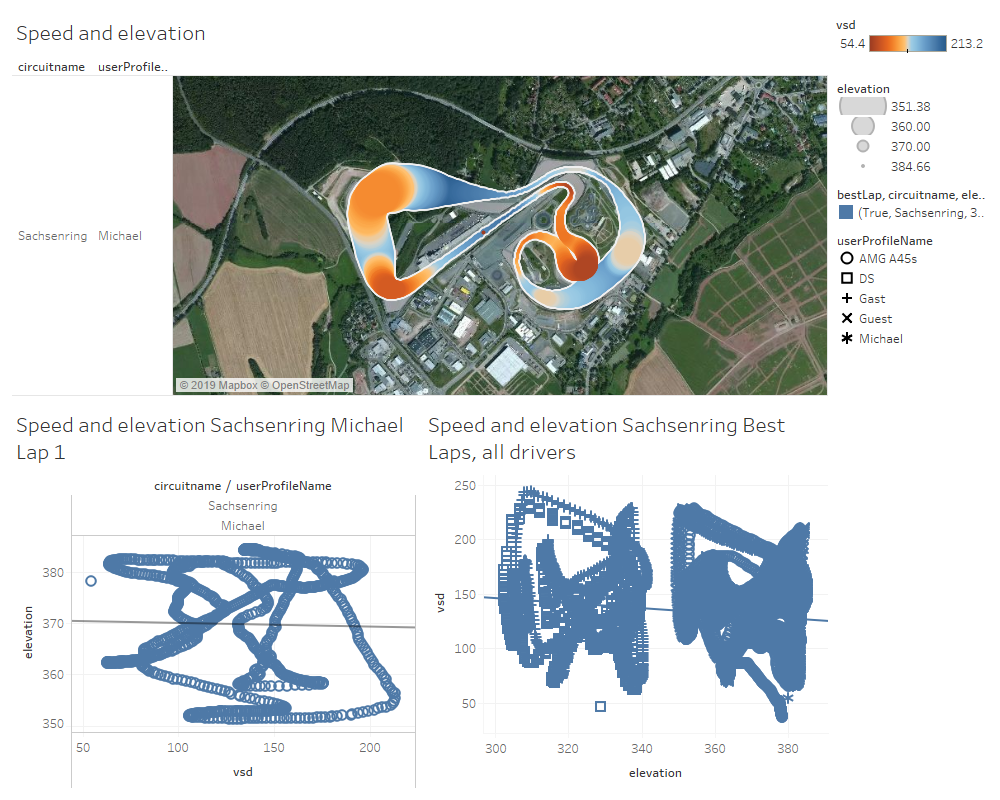

Layout of this report page (visuals, bound fields, positions):
{"tool":"tableau","page":{"name":"Dashboard 2","canvas":[1000,800],"ordinal":1},"visuals":[{"type":"worksheet","title":"Sheet 2","mark":"Circle","rows":["circuitname","userProfileName","lat"],"cols":["lon"],"box":[8,8,824,392]},{"type":"legend","title":"Sheet 2","param":"[federated.1ovtjj11v7gshn1c392m20qye2kd].[none:vsd:qk]","box":[832,8,160,65]},{"type":"legend","title":"Sheet 2","param":"[federated.1ovtjj11v7gshn1c392m20qye2kd].[none:elevation:qk]","box":[832,73,160,106]},{"type":"legend","title":"Sheet 4","param":"[federated.1ovtjj11v7gshn1c392m20qye2kd].[bestLap, circuitname, elevation and 3 ","box":[832,179,160,46]},{"type":"legend","title":"Sheet 4","param":"[federated.1ovtjj11v7gshn1c392m20qye2kd].[none:userProfileName:nk]","box":[832,225,160,126]},{"type":"worksheet","title":"Sheet 3","mark":"Automatic","rows":["elevation"],"cols":["circuitname","userProfileName","vsd"],"box":[8,400,412,392]},{"type":"worksheet","title":"Sheet 4","mark":"Automatic","rows":["vsd"],"cols":["elevation"],"box":[420,400,412,392]}]}

Visuals, with their boxes in screenshot pixels (x1, y1, x2, y2), scaled from the page's 1000x800 canvas onto the 1000x800 screenshot:
"Sheet 2" worksheet (Circle marks): (x1=8, y1=8, x2=832, y2=400)
"Sheet 2" legend: (x1=832, y1=8, x2=992, y2=73)
"Sheet 2" legend: (x1=832, y1=73, x2=992, y2=179)
"Sheet 4" legend: (x1=832, y1=179, x2=992, y2=225)
"Sheet 4" legend: (x1=832, y1=225, x2=992, y2=351)
"Sheet 3" worksheet: (x1=8, y1=400, x2=420, y2=792)
"Sheet 4" worksheet: (x1=420, y1=400, x2=832, y2=792)
